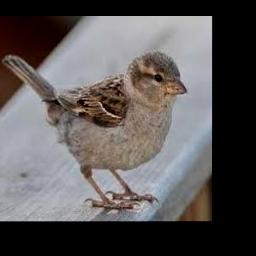Sparrow: (2, 51, 188, 209)
